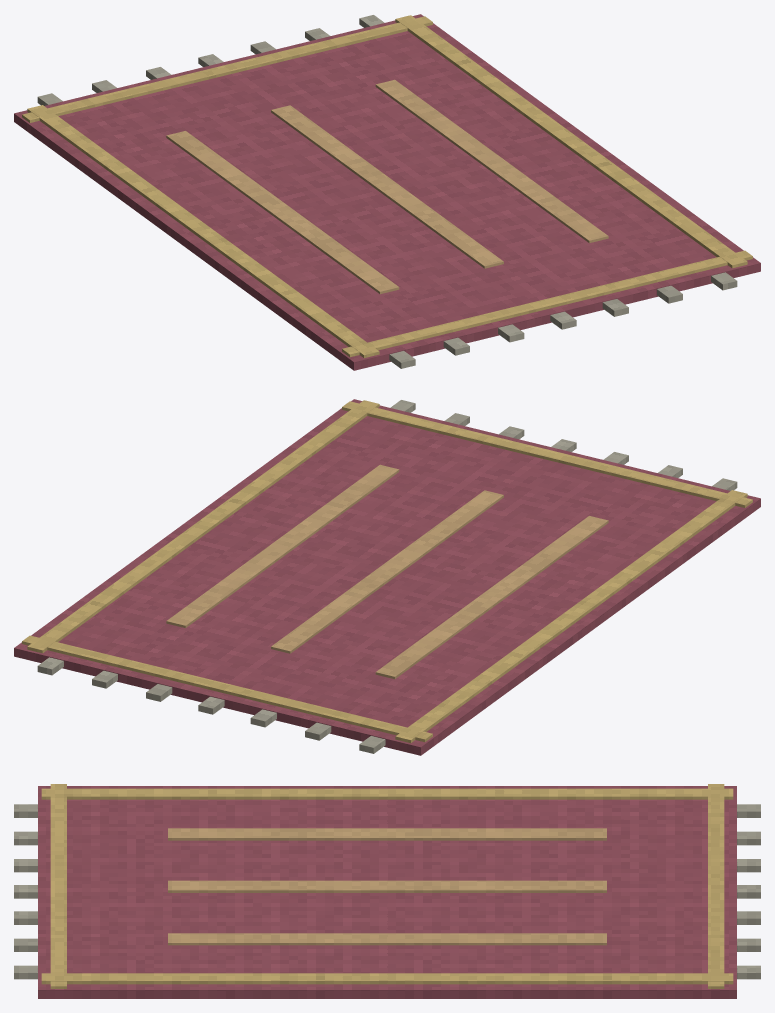
The model's file is level_blockout_castle_woven_rug.glb.
3 renders of one model, top to bottom at view 1: azimuth 30°, elevation 25°; view 2: azimuth 150°, elevation 25°; view 3: azimuth 270°, elevation 25°, orthographic. The views are drawn at different scales.
Visible parts, largest first — view 1: level_blockout_castle_woven_rug; view 2: level_blockout_castle_woven_rug; view 3: level_blockout_castle_woven_rug.
Part boxes in pixels (x1=…): level_blockout_castle_woven_rug: x1=14, y1=14, x2=760, y2=370; level_blockout_castle_woven_rug: x1=14, y1=399, x2=760, y2=755; level_blockout_castle_woven_rug: x1=14, y1=784, x2=760, y2=998.
Size of the model in its own units: 2.1 by 0.057 by 3.25.
Materials: 4 (4 with a texture image).
